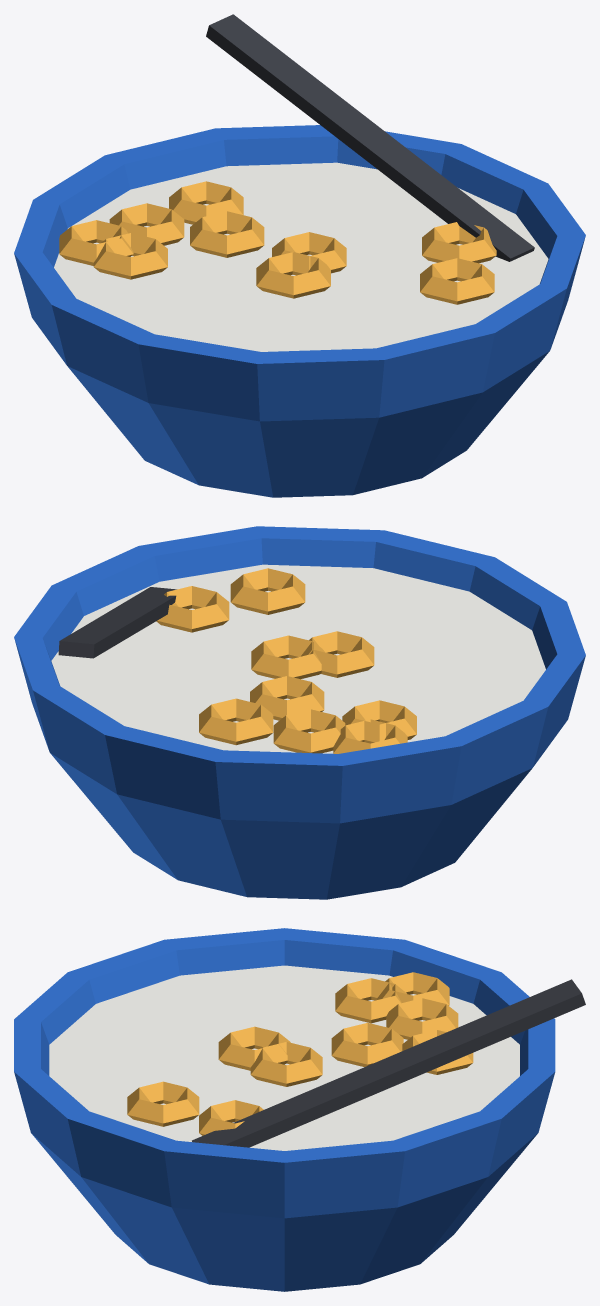
File: cereal_bowl.glb
The picture shows the model from 3 angles, top to bottom: view 1: azimuth 30°, elevation 25°; view 2: azimuth 150°, elevation 25°; view 3: azimuth 270°, elevation 25°; orthographic projection. The views are drawn at different scales.
Parts seen in each view (by area): view 1: cereal_bowl; view 2: cereal_bowl; view 3: cereal_bowl.
Part boxes in pixels (bbox=[...]): cereal_bowl: bbox=[14, 14, 585, 497]; cereal_bowl: bbox=[14, 526, 585, 899]; cereal_bowl: bbox=[14, 928, 585, 1291].
Size of the model in its own units: 0.16 by 0.0896 by 0.1648.
